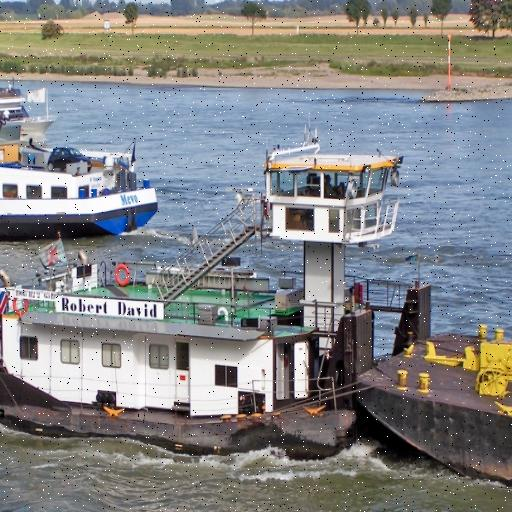tugboat: (1, 114, 440, 478)
